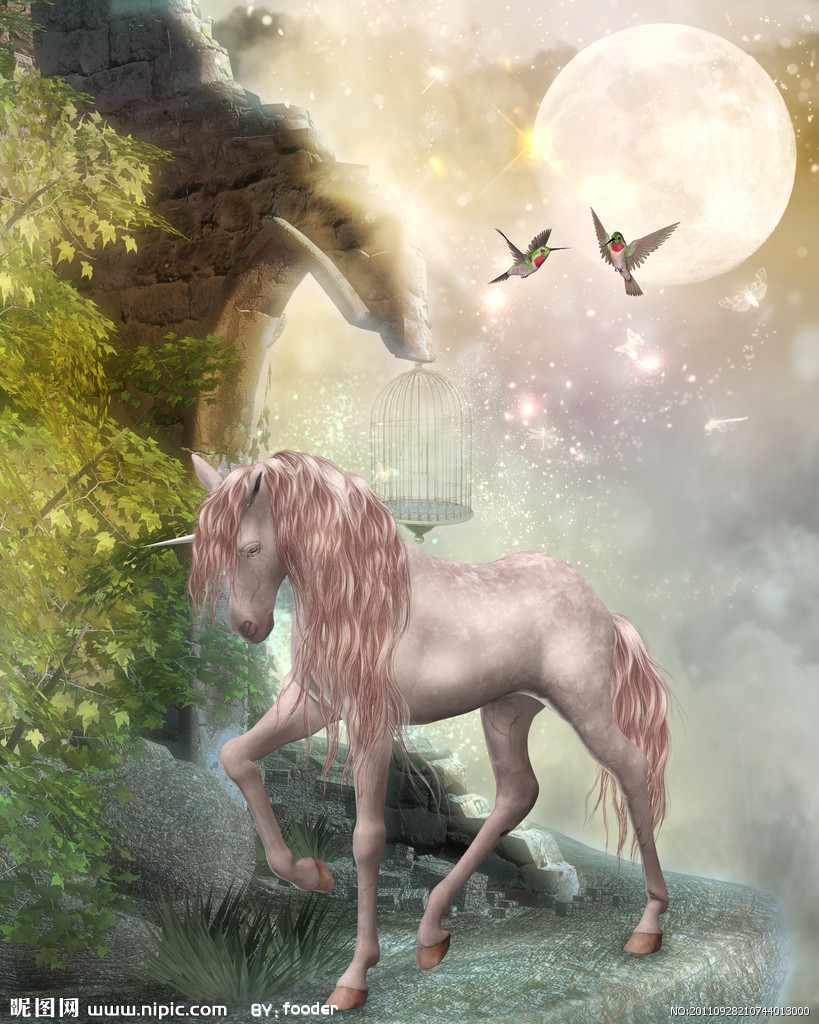background: (173, 428, 680, 1024)
